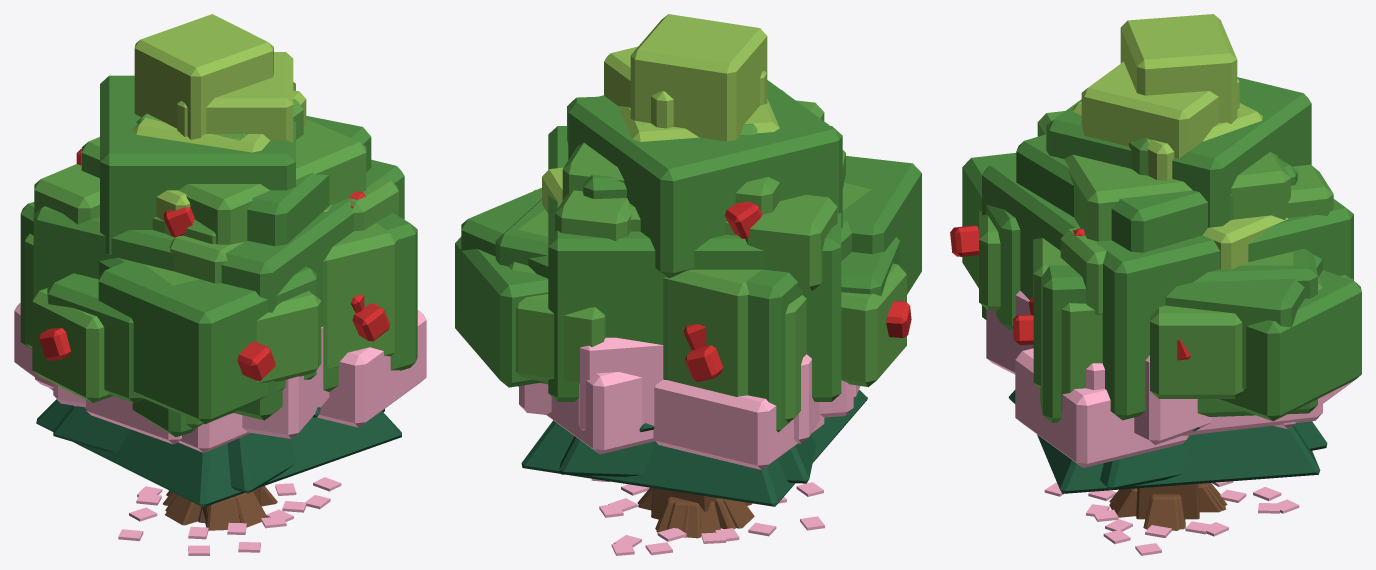
The model's file is w1_trees.fbx.
The picture shows the model from 3 angles, left to right: view 1: azimuth 30°, elevation 25°; view 2: azimuth 150°, elevation 25°; view 3: azimuth 270°, elevation 25°; orthographic projection. The views are drawn at different scales.
Parts seen in each view (by area): view 1: AppleA.Leaves, OakA.Leaves, AppleB.Leaves, BirchB.Leaves, OakB.Leaves, PineA.Needles, BlossomB.Blossom, BirchA.Leaves, PineB.Needles, BlossomA.Blossom, AppleA.Apples, AppleB.Apples (+4 smaller); view 2: AppleA.Leaves, OakA.Leaves, AppleB.Leaves, BirchB.Leaves, OakB.Leaves, BlossomB.Blossom, BlossomA.Blossom, PineA.Needles, PineB.Needles, BirchA.Leaves, AppleB.Apples, AppleA.Trunk (+5 smaller); view 3: AppleA.Leaves, AppleB.Leaves, OakA.Leaves, BirchB.Leaves, BirchA.Leaves, BlossomB.Blossom, PineA.Needles, OakB.Leaves, BlossomA.Blossom, PineB.Needles, AppleA.Trunk, BlossomA.FallenPetals (+4 smaller).
Boxes of the visible parts, box(x1,y1,x2,y2) form: AppleA.Leaves: box(33, 75, 404, 424); OakA.Leaves: box(34, 99, 397, 383); AppleB.Leaves: box(20, 116, 417, 437); BirchB.Leaves: box(132, 14, 331, 237); OakB.Leaves: box(25, 170, 398, 429); PineA.Needles: box(36, 399, 401, 507); BlossomB.Blossom: box(14, 303, 426, 452); BirchA.Leaves: box(177, 52, 293, 142); PineB.Needles: box(53, 405, 384, 493); BlossomA.Blossom: box(53, 327, 329, 444); AppleA.Apples: box(76, 149, 364, 380); AppleB.Apples: box(39, 191, 390, 360); AppleA.Leaves: box(461, 80, 921, 401); OakA.Leaves: box(518, 100, 871, 396); AppleB.Leaves: box(455, 90, 900, 432); BirchB.Leaves: box(618, 14, 779, 141); OakB.Leaves: box(508, 150, 906, 422); BlossomB.Blossom: box(519, 354, 824, 469); BlossomA.Blossom: box(546, 337, 860, 454); PineA.Needles: box(521, 390, 867, 506); PineB.Needles: box(559, 434, 816, 483); BirchA.Leaves: box(542, 46, 767, 213); AppleB.Apples: box(685, 301, 911, 381); AppleA.Trunk: box(637, 487, 752, 538); AppleA.Leaves: box(962, 77, 1353, 420); AppleB.Leaves: box(1016, 134, 1361, 422); OakA.Leaves: box(979, 111, 1333, 398); BirchB.Leaves: box(1073, 14, 1262, 180); BirchA.Leaves: box(1081, 61, 1287, 269); BlossomB.Blossom: box(1015, 348, 1322, 467); PineA.Needles: box(1037, 425, 1320, 493); OakB.Leaves: box(1060, 228, 1353, 411); BlossomA.Blossom: box(986, 290, 1352, 444); PineB.Needles: box(1008, 390, 1327, 490); AppleA.Trunk: box(1109, 483, 1227, 530); BlossomA.FallenPetals: box(1044, 481, 1299, 543).
Size of the model in its own units: 11.75 by 14.1 by 11.33.
